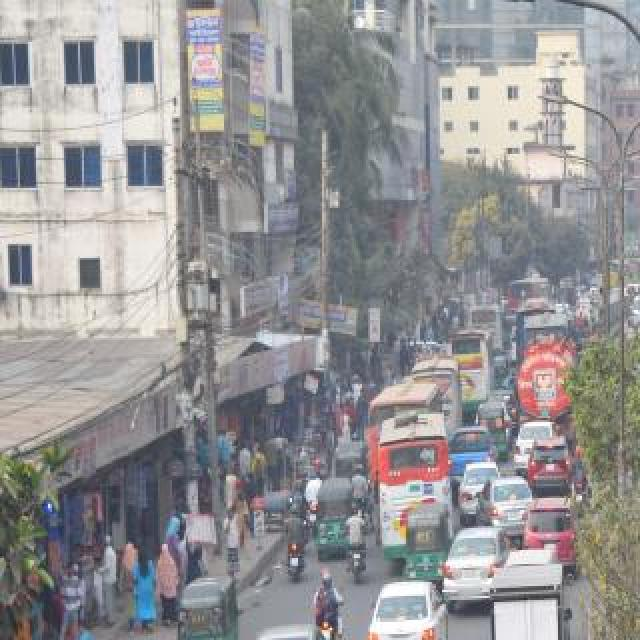bus: (378, 415, 454, 543), (366, 384, 442, 474), (408, 354, 464, 438), (446, 328, 494, 406), (624, 324, 640, 436), (469, 303, 505, 349), (507, 277, 549, 307)
car: (441, 526, 507, 610), (366, 576, 448, 640), (524, 498, 580, 566), (475, 479, 533, 537), (524, 436, 574, 494), (456, 461, 500, 519), (516, 424, 560, 464), (236, 630, 342, 640)
motorbike: (314, 564, 344, 640), (283, 501, 307, 583), (347, 501, 367, 585), (350, 463, 372, 523), (306, 471, 322, 535)
truck: (515, 337, 577, 421)
van: (488, 558, 570, 640), (448, 425, 498, 481), (630, 294, 640, 324)
